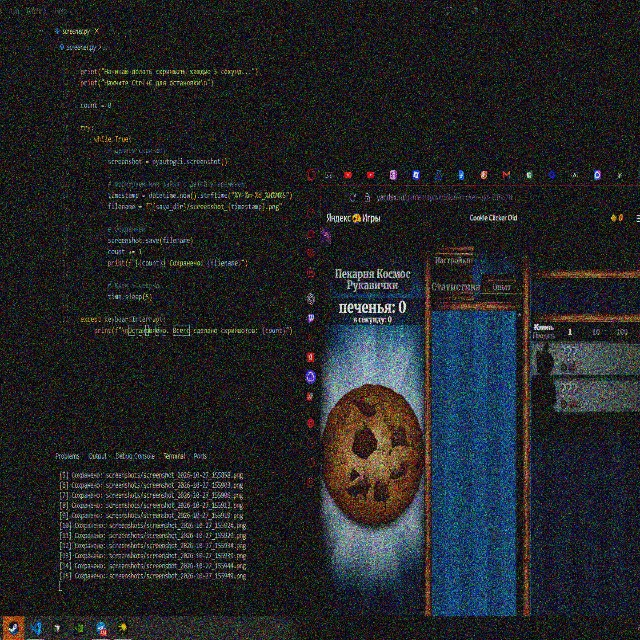game: (331, 385, 421, 520)
pokypki: (528, 337, 640, 416)
